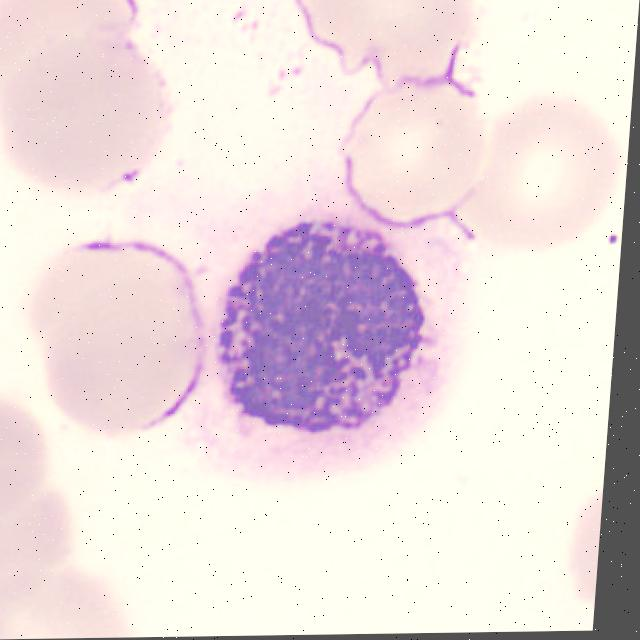basophil: (213, 222, 438, 442)
rbc: (23, 239, 208, 429), (0, 35, 185, 199), (458, 89, 623, 251), (338, 83, 486, 229), (288, 0, 493, 85), (0, 573, 149, 640), (0, 485, 76, 598), (0, 384, 56, 517)
